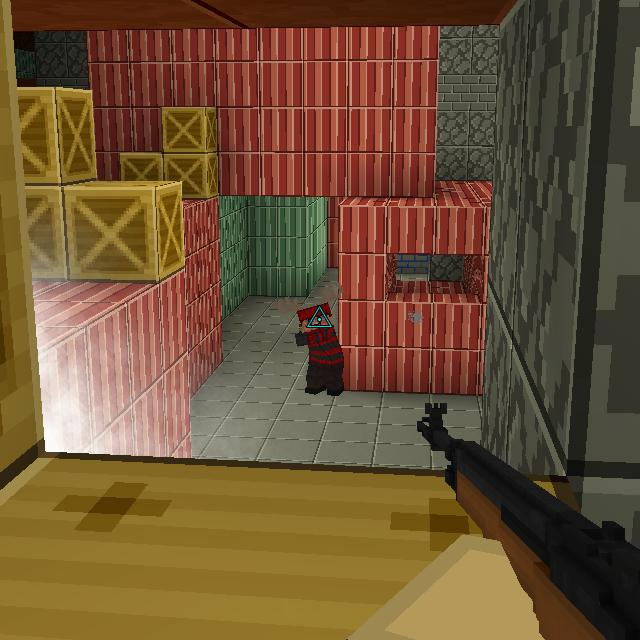enemy: (276, 282, 351, 396)
